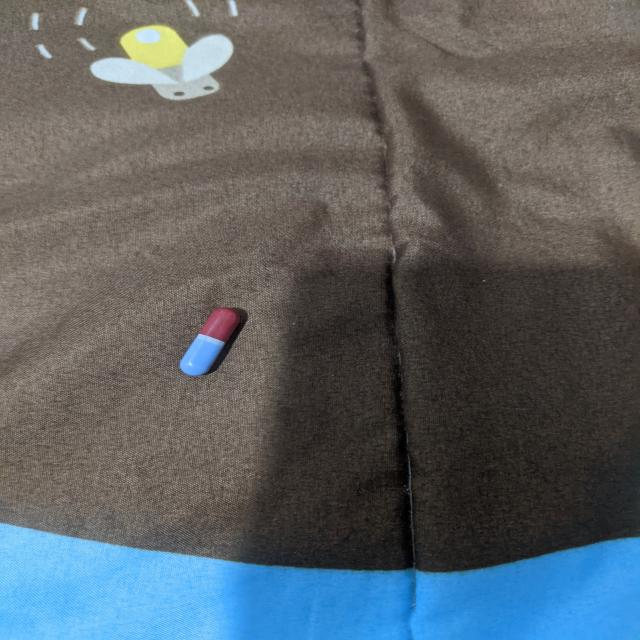non-organic waste: (178, 306, 242, 376)
